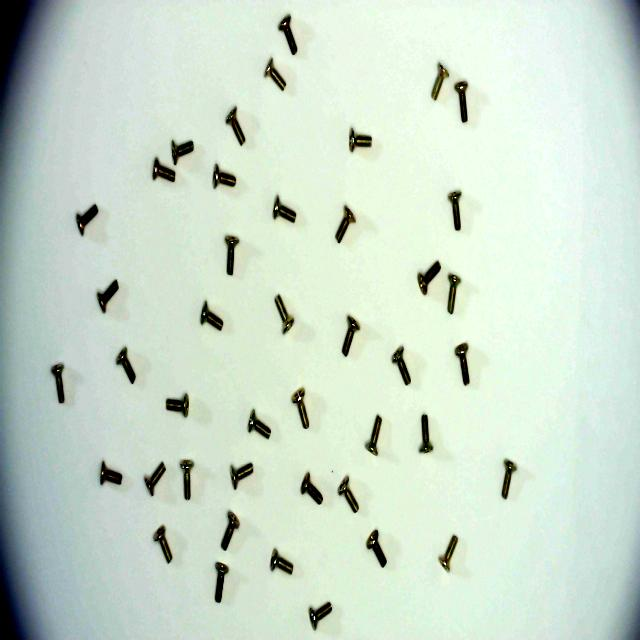Screws: (270, 286, 296, 338), (414, 254, 442, 302), (221, 228, 243, 282), (244, 404, 274, 441), (277, 11, 300, 59), (290, 383, 312, 432), (452, 337, 473, 388), (50, 359, 71, 410), (338, 312, 360, 359), (446, 268, 463, 328), (114, 344, 138, 386), (223, 106, 248, 146), (415, 414, 436, 459), (336, 474, 359, 515), (272, 192, 298, 228), (446, 186, 465, 235), (210, 162, 241, 192), (148, 155, 176, 188), (334, 202, 356, 244), (153, 522, 175, 564), (365, 528, 387, 570), (364, 412, 383, 460), (198, 299, 224, 334), (96, 277, 120, 314), (391, 343, 411, 387), (307, 600, 335, 631), (300, 470, 324, 506), (220, 510, 240, 553), (230, 459, 257, 490), (144, 460, 166, 498), (264, 59, 288, 93), (269, 548, 296, 578), (98, 458, 124, 489), (77, 203, 99, 239), (165, 390, 193, 418), (431, 61, 448, 106), (439, 534, 458, 574), (454, 81, 472, 123), (170, 136, 197, 164), (180, 456, 195, 506), (344, 128, 374, 152), (500, 457, 516, 502), (212, 562, 229, 604)
